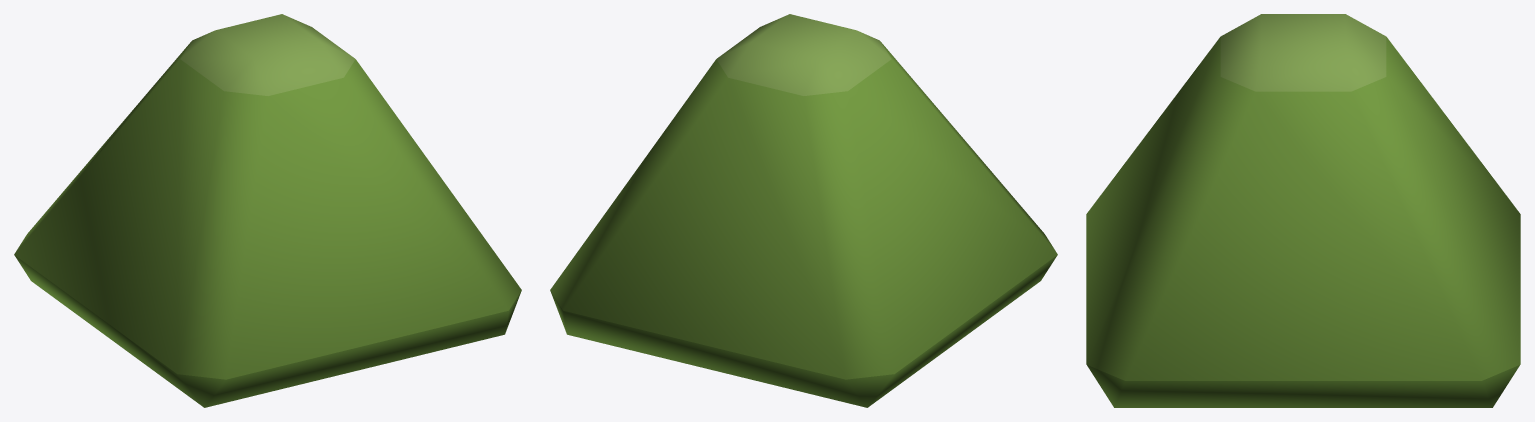
The model's file is itch_kaykit_forest_bush_4_a_color1.glb.
3 views of the same model, side by side, from view 1: azimuth 30°, elevation 25°; view 2: azimuth 150°, elevation 25°; view 3: azimuth 270°, elevation 25° (orthographic). The views are drawn at different scales.
Visible parts, largest first — view 1: Bush_4_A_Color1; view 2: Bush_4_A_Color1; view 3: Bush_4_A_Color1.
Boxes of the visible parts, bbox=[...] form: Bush_4_A_Color1: bbox=[14, 14, 521, 407]; Bush_4_A_Color1: bbox=[550, 14, 1057, 407]; Bush_4_A_Color1: bbox=[1086, 14, 1520, 407].
Size of the model in its own units: 0.96 by 0.723 by 0.96.
